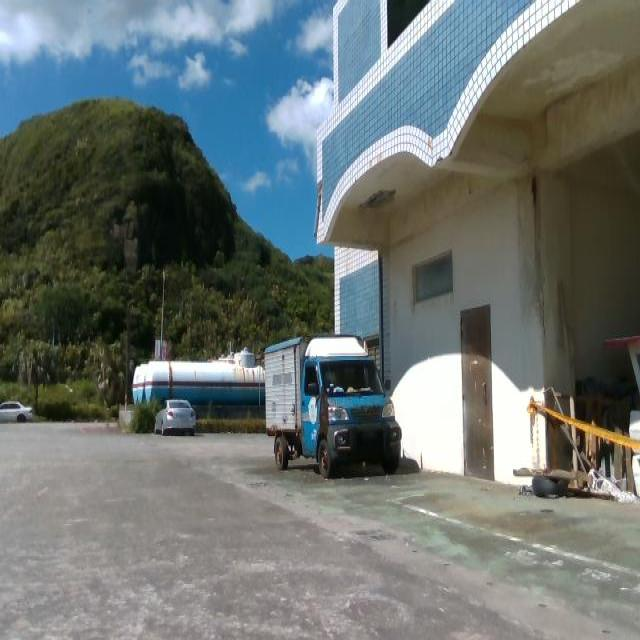pollute: (511, 327, 639, 505)
